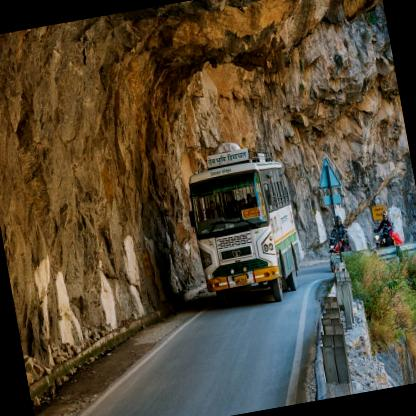bus: (106, 146, 192, 298)
motorcycle: (198, 216, 220, 265), (226, 212, 247, 247)
